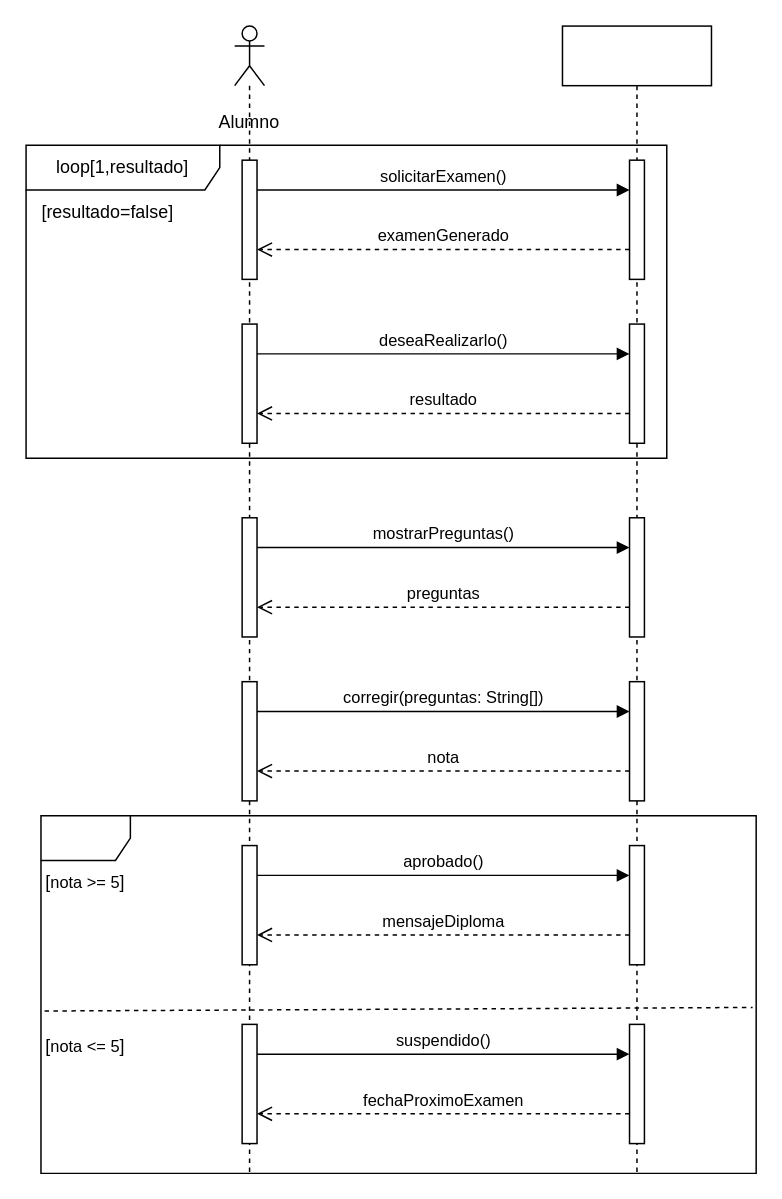
Some shapes in this 782 by 1199 pixel diagram are drawn without their labels. The shapes that lost their labels are listed below. From the top down, each one's box as (x1, y1, x2, y2) in pixels, then its label:
(561, 25, 711, 1173): :Sistema
(39, 814, 756, 1173): opt
